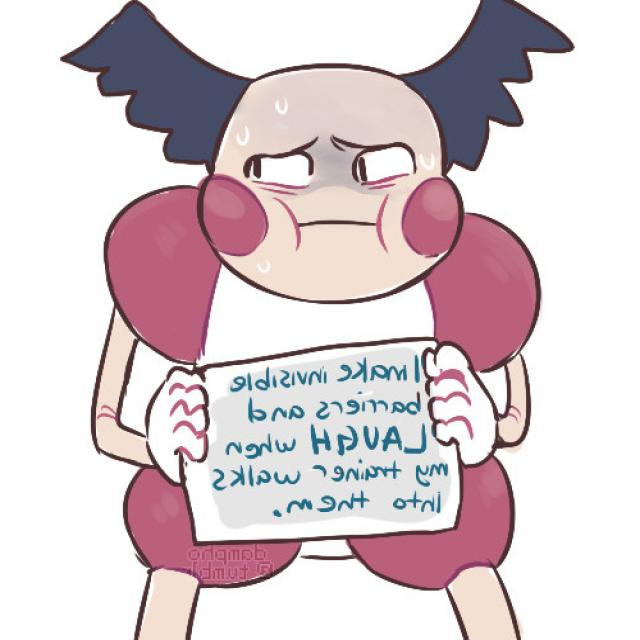MrMime: (96, 53, 538, 640)
